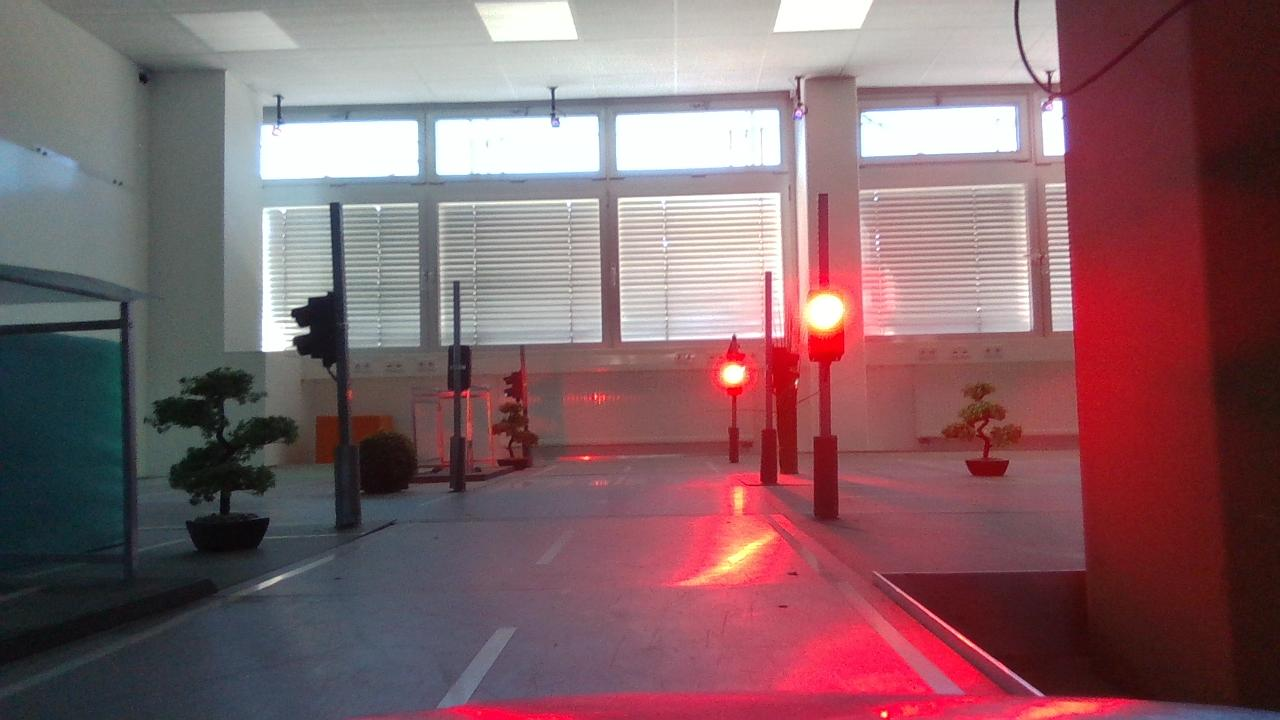traffic_light_red: (793, 281, 865, 374)
